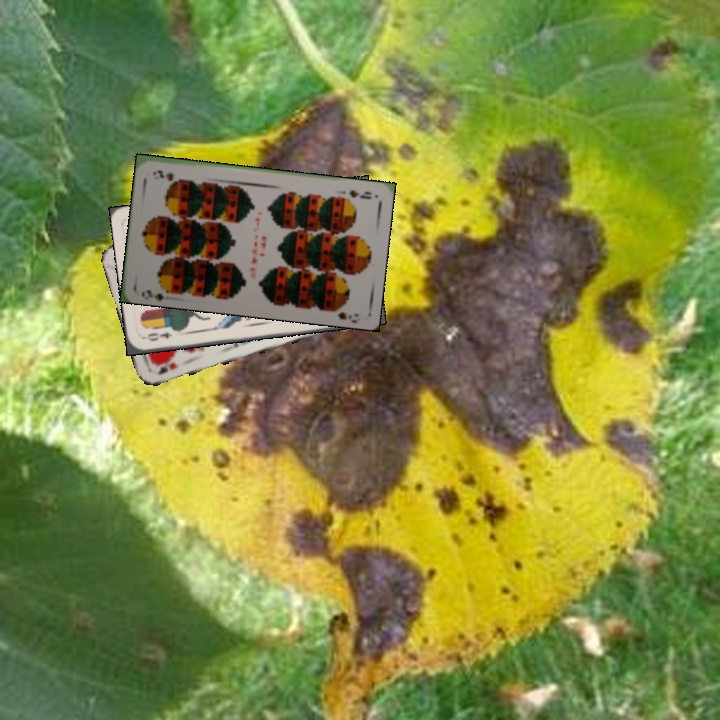EO: (140, 328, 174, 344)
HK: (154, 358, 182, 377)
S9: (137, 283, 177, 302), (345, 186, 374, 202)
